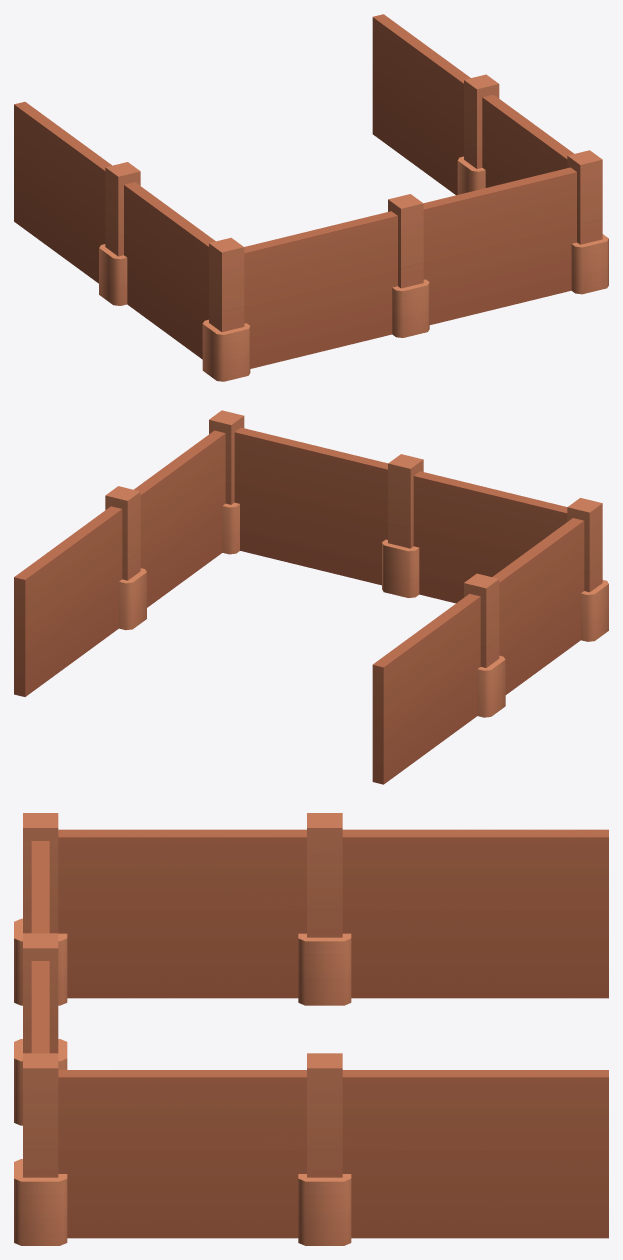
The model's file is fence-2x2.draco.glb.
3 views of the same model, one above another, from view 1: azimuth 30°, elevation 25°; view 2: azimuth 150°, elevation 25°; view 3: azimuth 270°, elevation 25° (orthographic). The views are drawn at different scales.
Parts seen in each view (by area): view 1: fence-2x2; view 2: fence-2x2; view 3: fence-2x2.
Part boxes in pixels (<box>): fence-2x2: <box>14,14,608,381</box>; fence-2x2: <box>14,410,608,784</box>; fence-2x2: <box>14,813,608,1245</box>.
Size of the model in its own units: 0.875 by 0.27 by 0.8375.
1 material, 1 textured.
